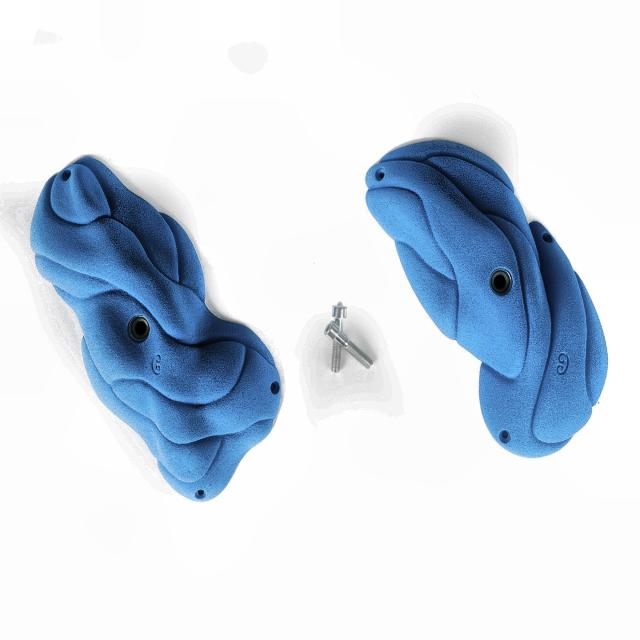Hold: (35, 149, 284, 502), (354, 145, 606, 459)
